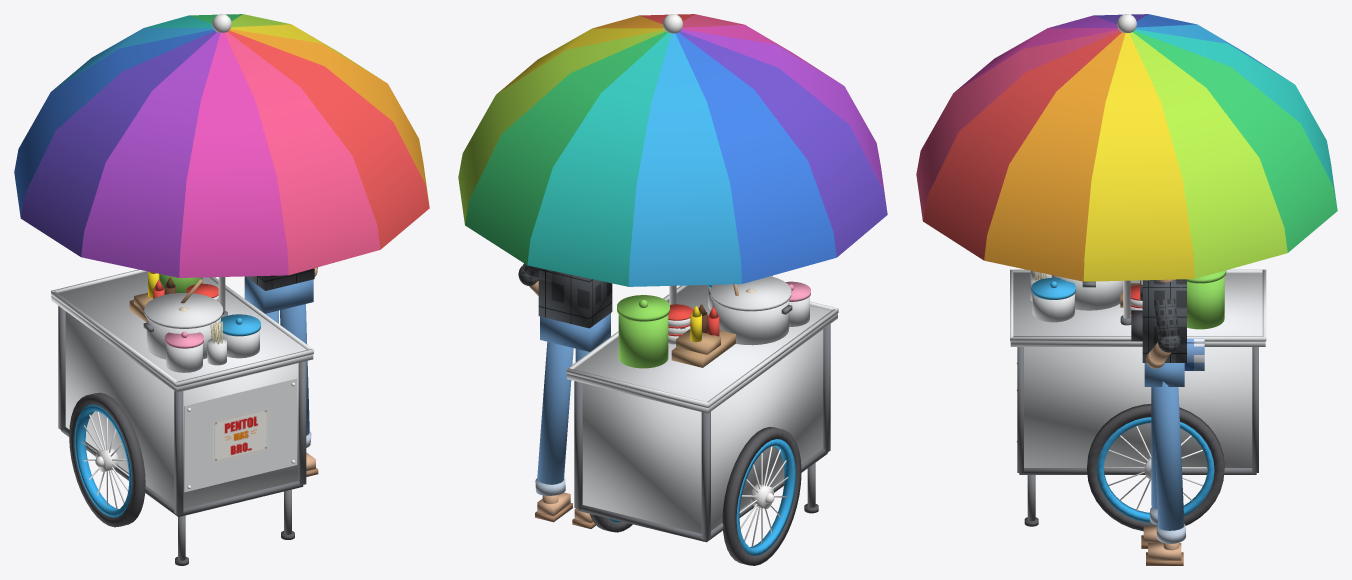
Rendered from gerobak_pentol_masbro.glb.
3 views of the same model, side by side, from view 1: azimuth 30°, elevation 25°; view 2: azimuth 150°, elevation 25°; view 3: azimuth 270°, elevation 25° (orthographic). The views are drawn at different scales.
Parts seen in each view (by area): view 1: Canopy_Sec_10, Canopy_Sec_9, Canopy_Sec_11, Cart_Body, Canopy_Sec_8, Canopy_Sec_0, Countertop, Sign_Border, Canopy_Sec_7, Canopy_Sec_1, Wheel_L_Tire, Front_Signboard (+19 smaller); view 2: Cart_Body, Canopy_Sec_6, Canopy_Sec_5, Canopy_Sec_7, Canopy_Sec_4, Canopy_Sec_8, Countertop, Canopy_Sec_3, Canopy_Sec_9, Jeans_Leg_L, Char_Torso, Wheel_L_Tire (+17 smaller); view 3: Cart_Body, Canopy_Sec_2, Canopy_Sec_1, Canopy_Sec_3, Canopy_Sec_0, Canopy_Sec_4, Countertop, Canopy_Sec_11, Canopy_Sec_5, Jeans_Leg_L, Wheel_R_Tire, Char_Torso (+15 smaller).
Part boxes in pixels (x1,y1,x2,y2): Canopy_Sec_10: (179, 32, 288, 277); Canopy_Sec_9: (81, 32, 220, 277); Canopy_Sec_11: (224, 32, 380, 275); Cart_Body: (65, 311, 298, 508); Canopy_Sec_8: (20, 31, 216, 256); Canopy_Sec_0: (227, 30, 429, 249); Countertop: (51, 271, 313, 392); Sign_Border: (184, 378, 297, 492); Canopy_Sec_7: (14, 29, 214, 217); Canopy_Sec_1: (229, 29, 429, 204); Wheel_L_Tire: (69, 392, 145, 527); Front_Signboard: (213, 408, 268, 462); Cart_Body: (582, 329, 823, 533); Canopy_Sec_6: (629, 33, 741, 286); Canopy_Sec_5: (527, 33, 671, 286); Canopy_Sec_7: (675, 32, 836, 283); Canopy_Sec_4: (465, 31, 667, 264); Canopy_Sec_8: (679, 31, 887, 257); Countertop: (567, 285, 837, 413); Canopy_Sec_3: (458, 30, 665, 223); Canopy_Sec_9: (681, 29, 887, 211); Jeans_Leg_L: (537, 341, 573, 484); Char_Torso: (538, 268, 612, 328); Wheel_L_Tire: (722, 427, 801, 565); Cart_Body: (1024, 347, 1252, 467); Canopy_Sec_2: (1083, 33, 1194, 281); Canopy_Sec_1: (984, 32, 1125, 281); Canopy_Sec_3: (1129, 32, 1287, 278); Canopy_Sec_0: (923, 31, 1121, 260); Canopy_Sec_4: (1133, 30, 1337, 252); Countertop: (1010, 273, 1265, 346); Canopy_Sec_11: (916, 29, 1119, 220); Canopy_Sec_5: (1134, 29, 1337, 207); Jeans_Leg_L: (1152, 381, 1184, 530); Wheel_R_Tire: (1087, 404, 1224, 531); Char_Torso: (1142, 279, 1186, 362).
Size of what is drawn, in the model's own units: 1.9 by 2.49 by 1.9.
39 materials, 4 textured.
